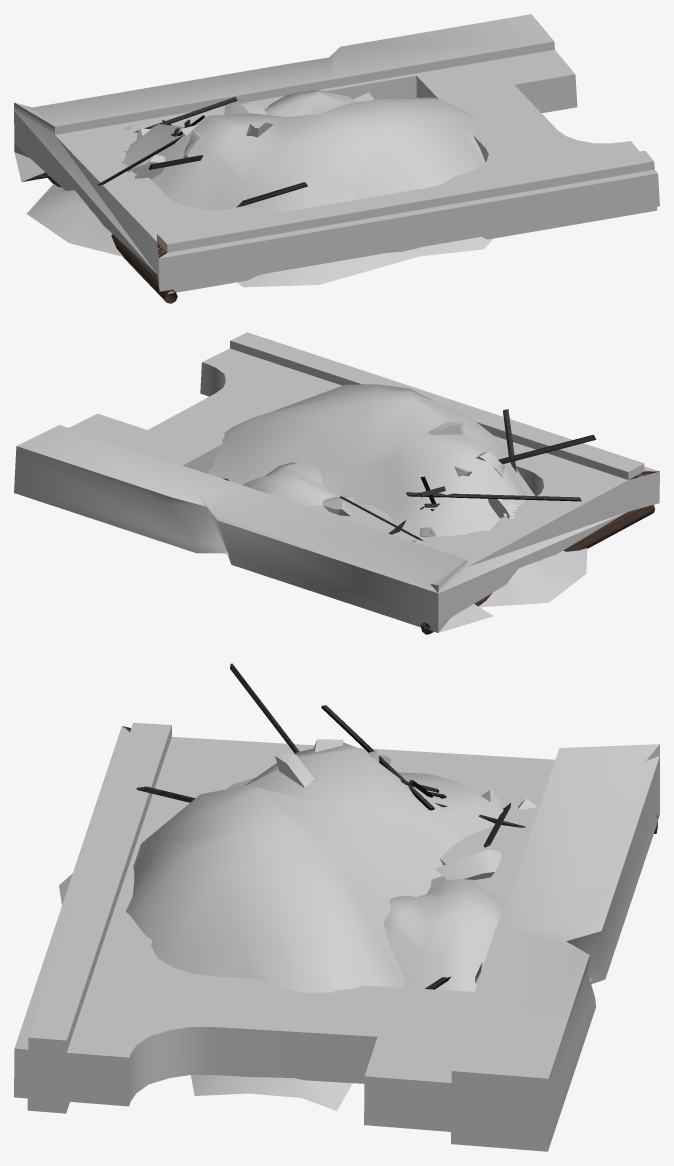
File: ruins with shut_LODGroup.fbx
3 renders of one model, top to bottom at view 1: azimuth 30°, elevation 25°; view 2: azimuth 150°, elevation 25°; view 3: azimuth 270°, elevation 25°, orthographic. The views are drawn at different scales.
Parts seen in each view (by area): view 1: ruins_with_shut_LOD0; view 2: ruins_with_shut_LOD0; view 3: ruins_with_shut_LOD0.
Part boxes in pixels (left/top/right/bottom): ruins_with_shut_LOD0: left=14, top=14, right=659, bottom=303; ruins_with_shut_LOD0: left=14, top=332, right=659, bottom=634; ruins_with_shut_LOD0: left=14, top=663, right=659, bottom=1151.
Size of what is drawn, in the model's own units: 5.19 by 1.11 by 3.8.
